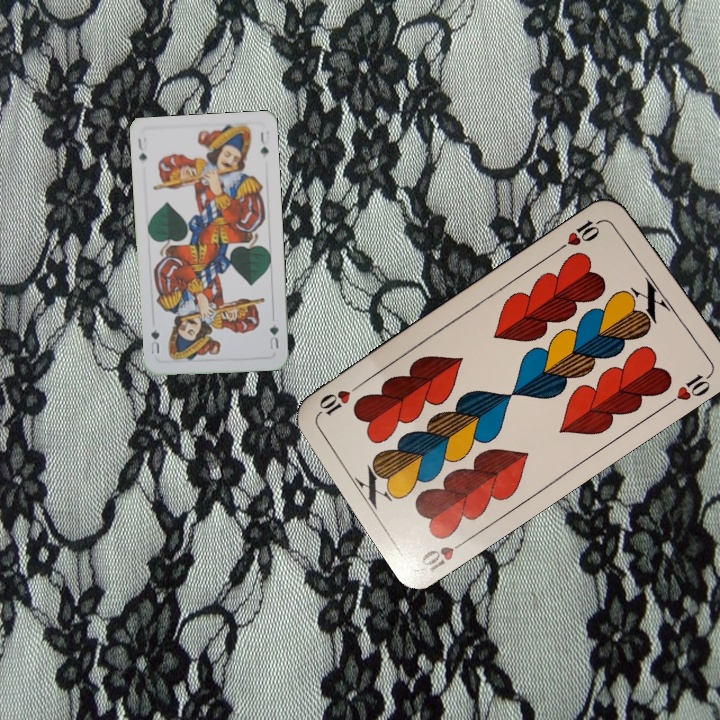GU: (265, 320, 281, 352), (134, 133, 150, 164)
H10: (417, 534, 474, 575), (555, 214, 608, 253)
